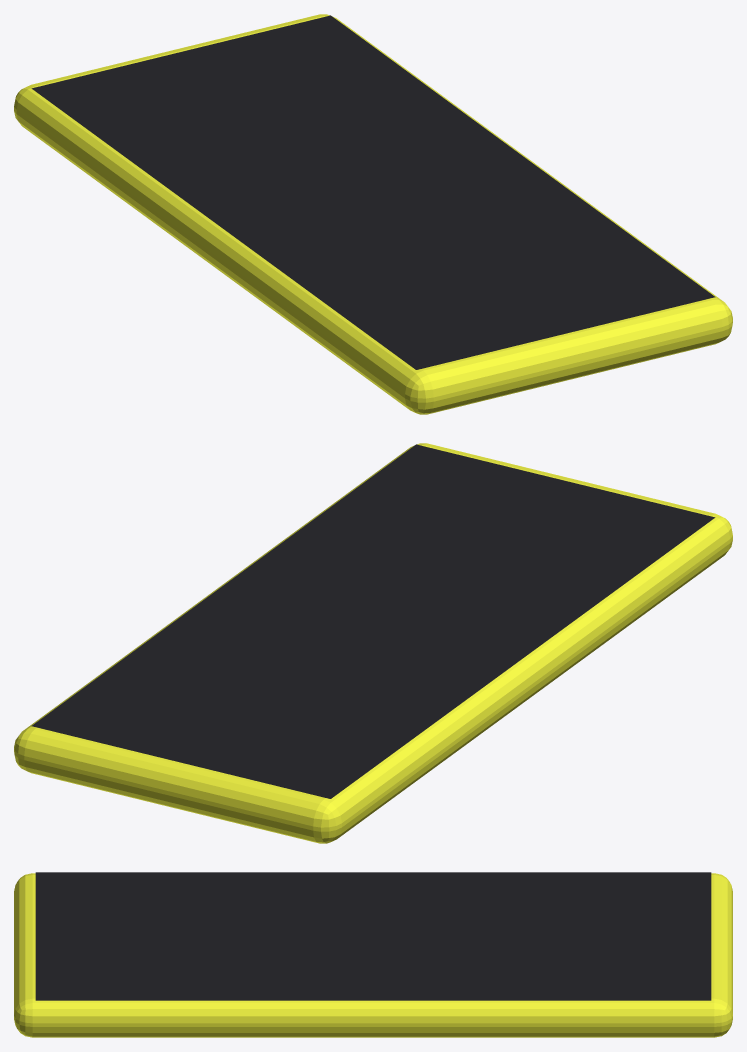
The model's file is vivo-t-model-66-flagship-2024.glb.
3 renders of one model, top to bottom at view 1: azimuth 30°, elevation 25°; view 2: azimuth 150°, elevation 25°; view 3: azimuth 270°, elevation 25°, orthographic. The views are drawn at different scales.
Visible parts, largest first — view 1: Phone_Screen, Phone_Body; view 2: Phone_Screen, Phone_Body; view 3: Phone_Screen, Phone_Body.
Part boxes in pixels (x1=…): Phone_Screen: x1=31, y1=15, x2=715, y2=369; Phone_Body: x1=14, y1=14, x2=732, y2=414; Phone_Screen: x1=31, y1=444, x2=715, y2=798; Phone_Body: x1=14, y1=443, x2=732, y2=843; Phone_Screen: x1=35, y1=872, x2=711, y2=1000; Phone_Body: x1=14, y1=873, x2=732, y2=1037.
Size of the model in its own units: 0.0746 by 0.0094 by 0.1626.
